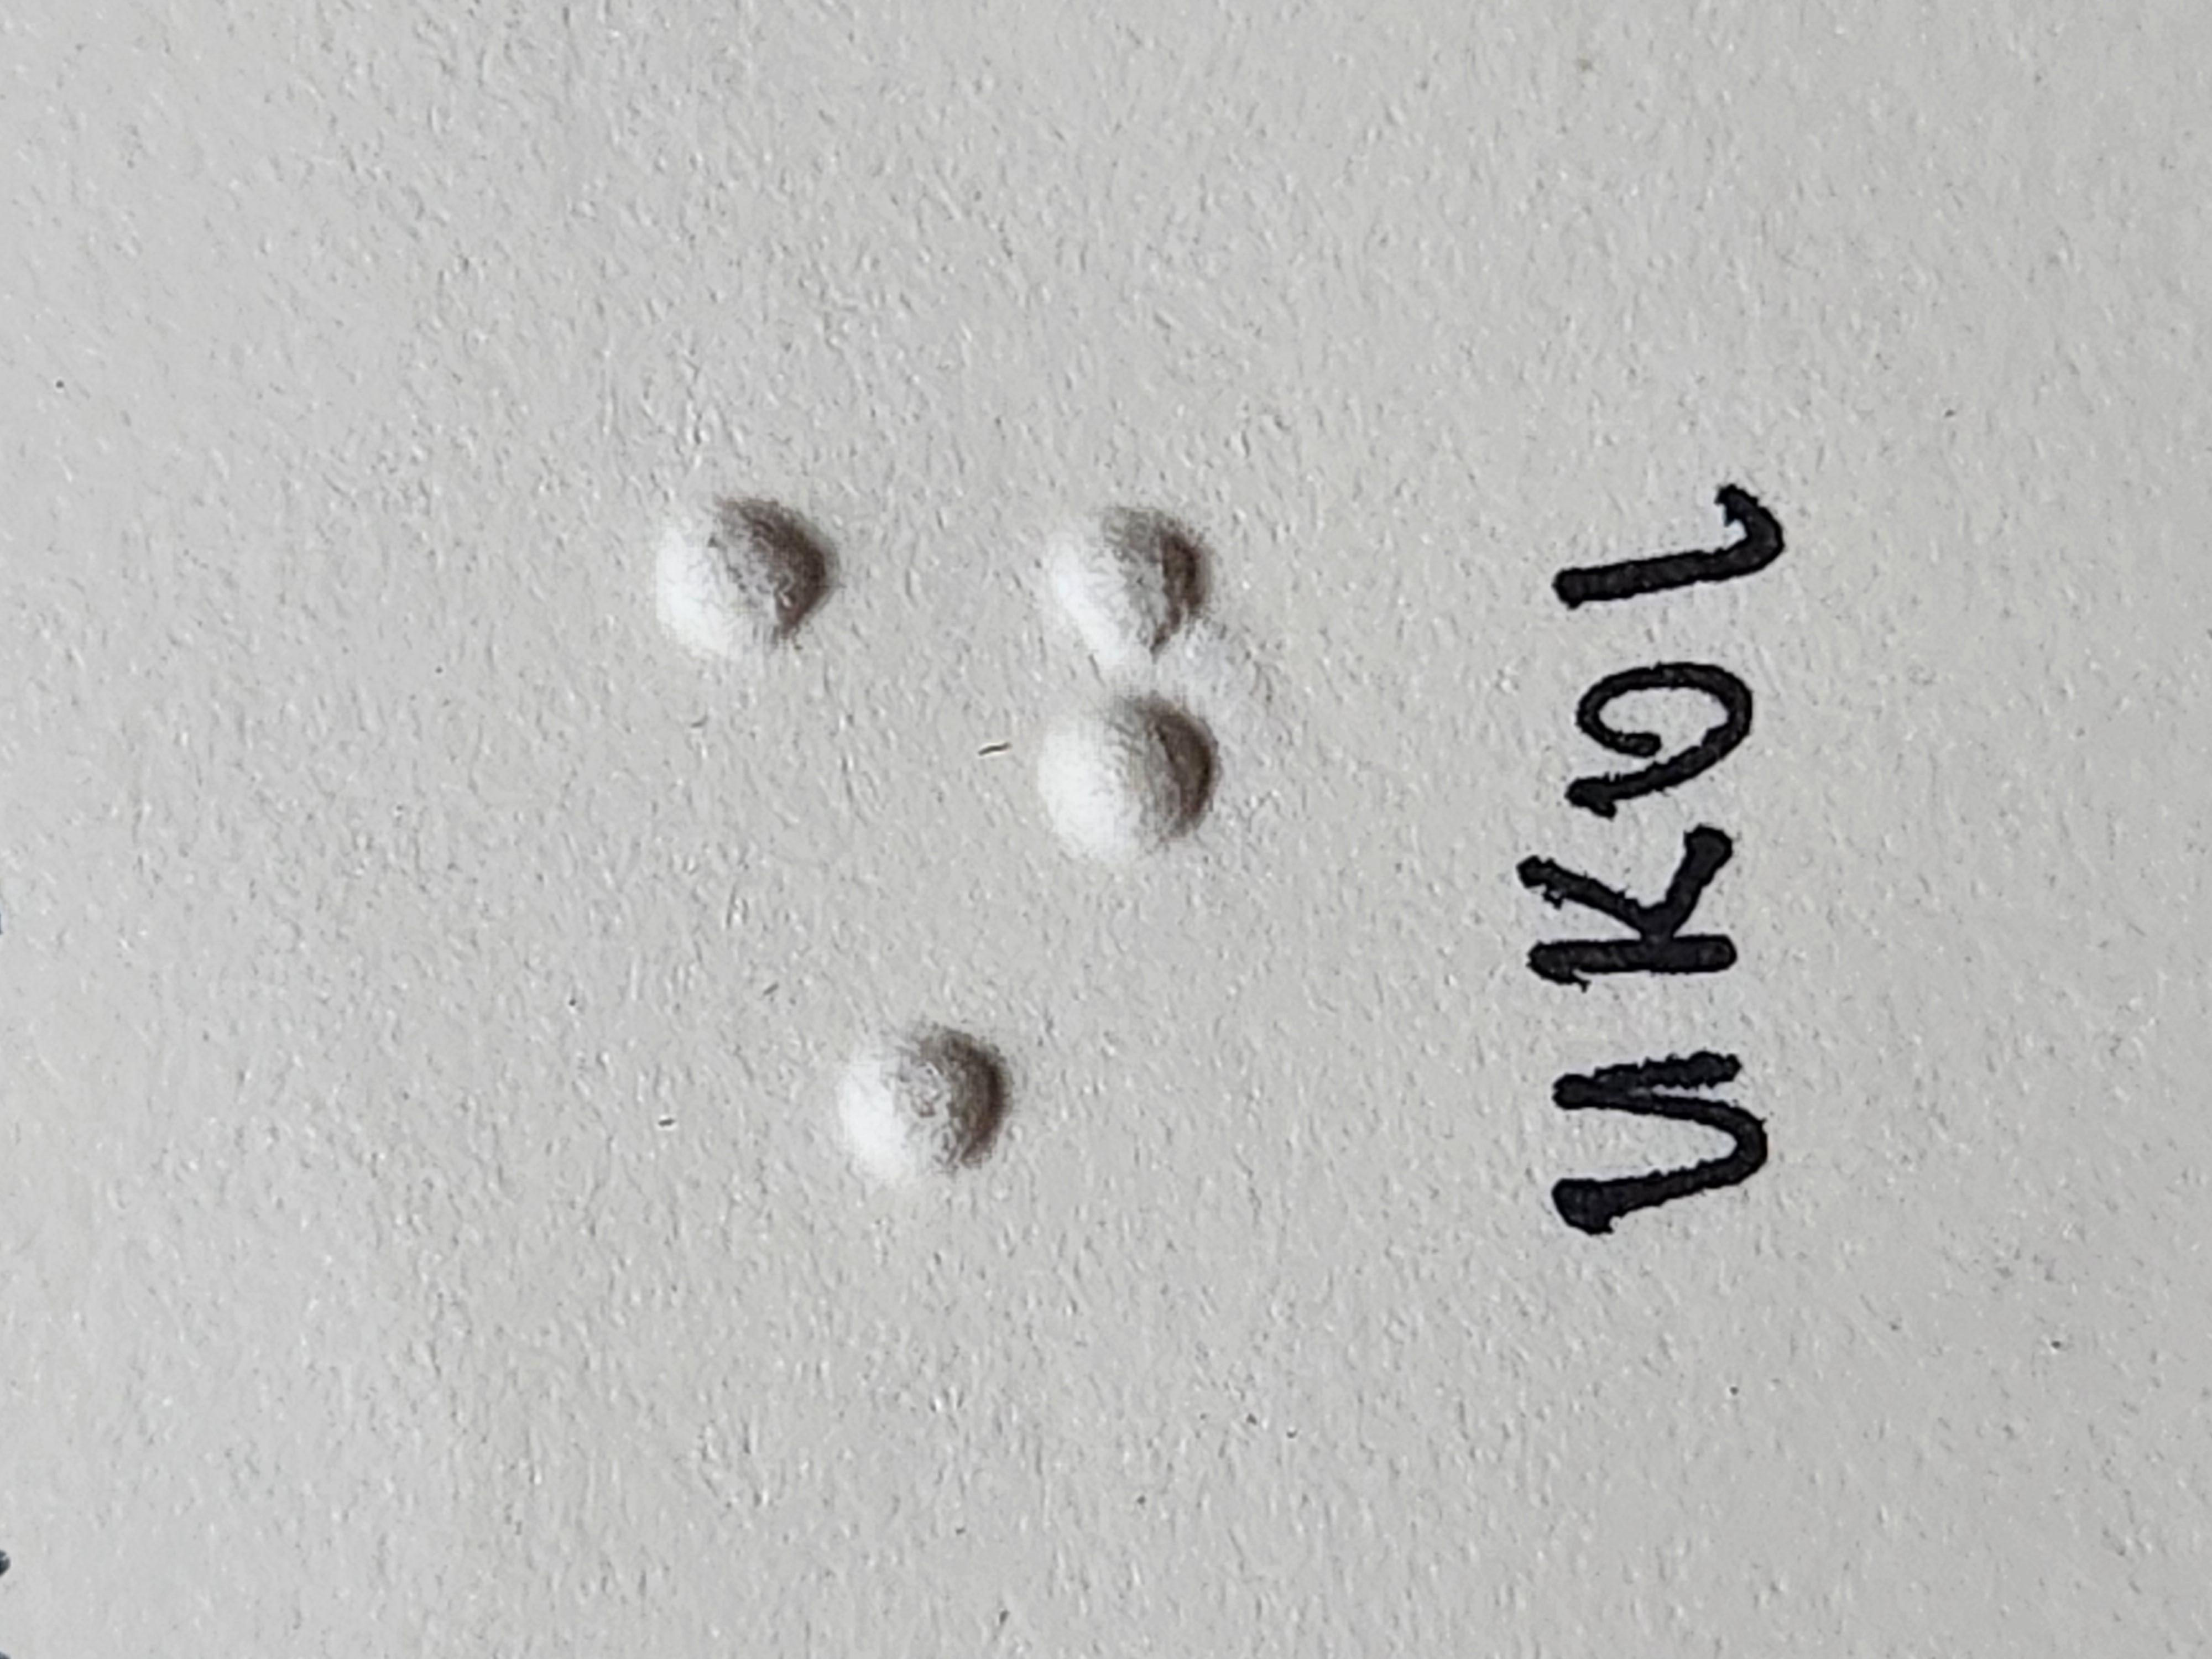dot_5: (366, 498, 857, 915)
two_cell_non_alphabet_ukol: (1055, 495, 1547, 911)
